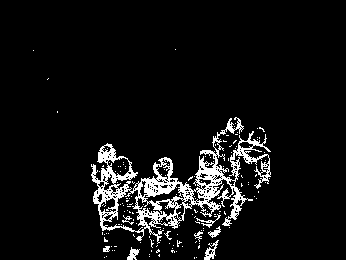person: (182, 148, 232, 260), (144, 149, 183, 260), (83, 141, 118, 249), (112, 154, 145, 260), (245, 125, 271, 214), (209, 108, 236, 186)
